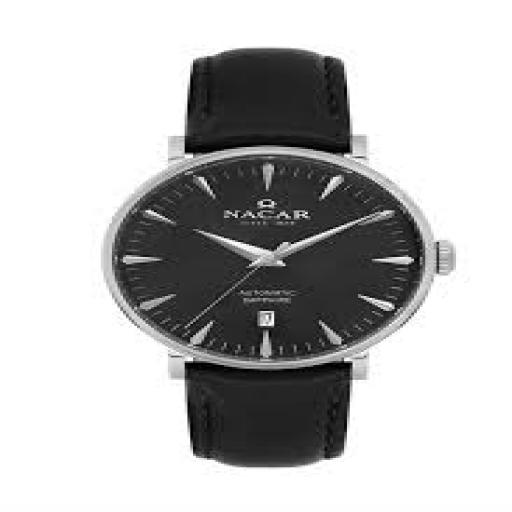KolSaati: (96, 46, 460, 475)
